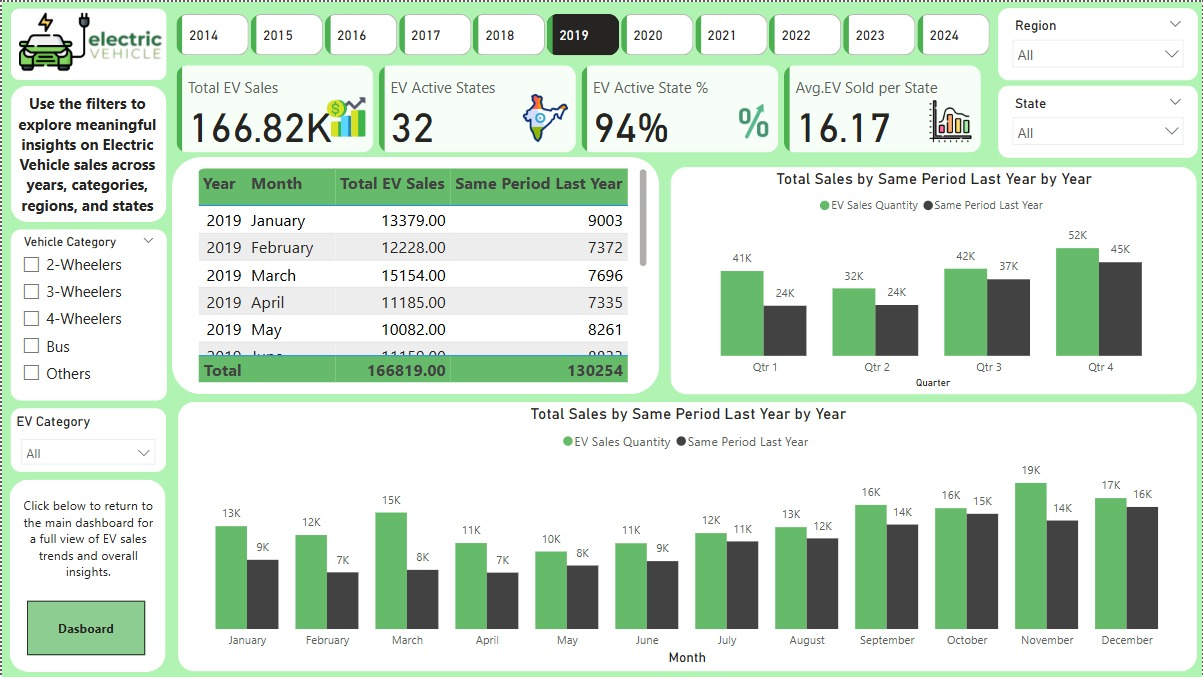

The dashboard page shown, as its layout file describes it:
{"tool":"powerbi","page":{"name":"Same Period Last Year","canvas":[1280,720],"ordinal":1},"visuals":[{"type":"shape","box":[9.3,7,166.3,76.7],"z":0},{"type":"image","box":[12.8,0,84.9,84.9],"z":1000},{"type":"advancedSlicerVisual","fields":{"Values":["Custom_Calendar.Date.Variation.Date Hierarchy.Year"]},"box":[181.4,8.1,886,54.7],"z":2000},{"type":"slicer","fields":{"Values":["Cleaned_Electric_Vehicle_Sales.Vehicle_Category"]},"box":[9.6,242.9,166,182.5],"z":3000},{"type":"image","box":[76.7,22.1,110.5,48.8],"z":4000},{"type":"slicer","fields":{"Values":["Cleaned_Electric_Vehicle_Sales.Region"]},"box":[1062.8,7,212.8,76.7],"z":5000},{"type":"slicer","fields":{"Values":["Cleaned_Electric_Vehicle_Sales.State"]},"box":[1062.8,89.5,212.8,76.7],"z":6000},{"type":"shape","box":[9.6,89.2,166,145.5],"z":7000},{"type":"textbox","box":[8.2,91.9,166,140],"z":8000},{"type":"cardVisual","fields":{"Data":["Cleaned_Electric_Vehicle_Sales.Total EV Sales","Cleaned_Electric_Vehicle_Sales.Total EV-Active States","Cleaned_Electric_Vehicle_Sales.EV Active State %","Cleaned_Electric_Vehicle_Sales.Avg.EV Sold"]},"box":[181.1,62.5,871.2,103],"z":10000},{"type":"clusteredColumnChart","title":"Total Sales by Same Period Last Year by Year","fields":{"Y":["Sum(Cleaned_Electric_Vehicle_Sales.EV_Sales_Quantity)","Cleaned_Electric_Vehicle_Sales.Same Period Last Year"],"Category":["Custom_Calendar.Date.Variation.Date Hierarchy.Month","Custom_Calendar.Date.Variation.Date Hierarchy.Day"]},"box":[187.4,426.3,1086.7,287.3],"z":10001},{"type":"clusteredColumnChart","title":"Total Sales by Same Period Last Year by Year","fields":{"Y":["Sum(Cleaned_Electric_Vehicle_Sales.EV_Sales_Quantity)","Cleaned_Electric_Vehicle_Sales.Same Period Last Year"],"Category":["Custom_Calendar.Date.Variation.Date Hierarchy.Quarter"]},"box":[713.5,176.4,560.5,242],"z":10002},{"type":"shape","box":[181.1,165.5,519.9,252.9],"z":10004},{"type":"tableEx","fields":{"Values":["Custom_Calendar.Date.Variation.Date Hierarchy.Year","Custom_Calendar.Date.Variation.Date Hierarchy.Month","Cleaned_Electric_Vehicle_Sales.Total EV Sales","Cleaned_Electric_Vehicle_Sales.Same Period Last Year"]},"box":[203,176.4,491.8,235.8],"z":10005},{"type":"image","box":[981.3,100,61.3,54.7],"z":10006},{"type":"image","box":[778.7,100,46.7,54.7],"z":10007},{"type":"image","box":[549.3,93.3,61.3,61.3],"z":10008},{"type":"image","box":[334.7,93.3,65.3,58.7],"z":10009},{"type":"slicer","title":"EV Category","fields":{"Values":["Cleaned_Electric_Vehicle_Sales.EV_Category"]},"box":[9.3,433.3,165.3,68],"z":10010},{"type":"shape","box":[8,509.3,166.7,205.3],"z":10011},{"type":"textbox","box":[16,522.7,152,105.3],"z":10012},{"type":"pageNavigator","box":[26.7,638.7,126.7,58.7],"z":10013}]}

Visuals, with their boxes in screenshot pixels (x1, y1, x2, y2), scaled from the page's 1280x720 canvas onto the 1203x677 screenshot:
shape: (left=9, top=7, right=165, bottom=79)
image: (left=12, top=0, right=92, bottom=80)
advancedSlicerVisual - Custom_Calendar.Date.Variation.Date Hierarchy.Year: (left=170, top=8, right=1003, bottom=59)
slicer - Cleaned_Electric_Vehicle_Sales.Vehicle_Category: (left=9, top=228, right=165, bottom=400)
image: (left=72, top=21, right=176, bottom=67)
slicer - Cleaned_Electric_Vehicle_Sales.Region: (left=999, top=7, right=1199, bottom=79)
slicer - Cleaned_Electric_Vehicle_Sales.State: (left=999, top=84, right=1199, bottom=156)
shape: (left=9, top=84, right=165, bottom=221)
textbox: (left=8, top=86, right=164, bottom=218)
cardVisual - Cleaned_Electric_Vehicle_Sales.Total EV Sales x Cleaned_Electric_Vehicle_Sales.Total EV-Active States: (left=170, top=59, right=989, bottom=156)
"Total Sales by Same Period Last Year by Year" clusteredColumnChart: (left=176, top=401, right=1197, bottom=671)
"Total Sales by Same Period Last Year by Year" clusteredColumnChart: (left=671, top=166, right=1197, bottom=393)
shape: (left=170, top=156, right=659, bottom=393)
tableEx - Custom_Calendar.Date.Variation.Date Hierarchy.Year x Custom_Calendar.Date.Variation.Date Hierarchy.Month: (left=191, top=166, right=653, bottom=388)
image: (left=922, top=94, right=980, bottom=145)
image: (left=732, top=94, right=776, bottom=145)
image: (left=516, top=88, right=574, bottom=145)
image: (left=315, top=88, right=376, bottom=143)
"EV Category" slicer: (left=9, top=407, right=164, bottom=471)
shape: (left=8, top=479, right=164, bottom=672)
textbox: (left=15, top=491, right=158, bottom=590)
pageNavigator: (left=25, top=601, right=144, bottom=656)
